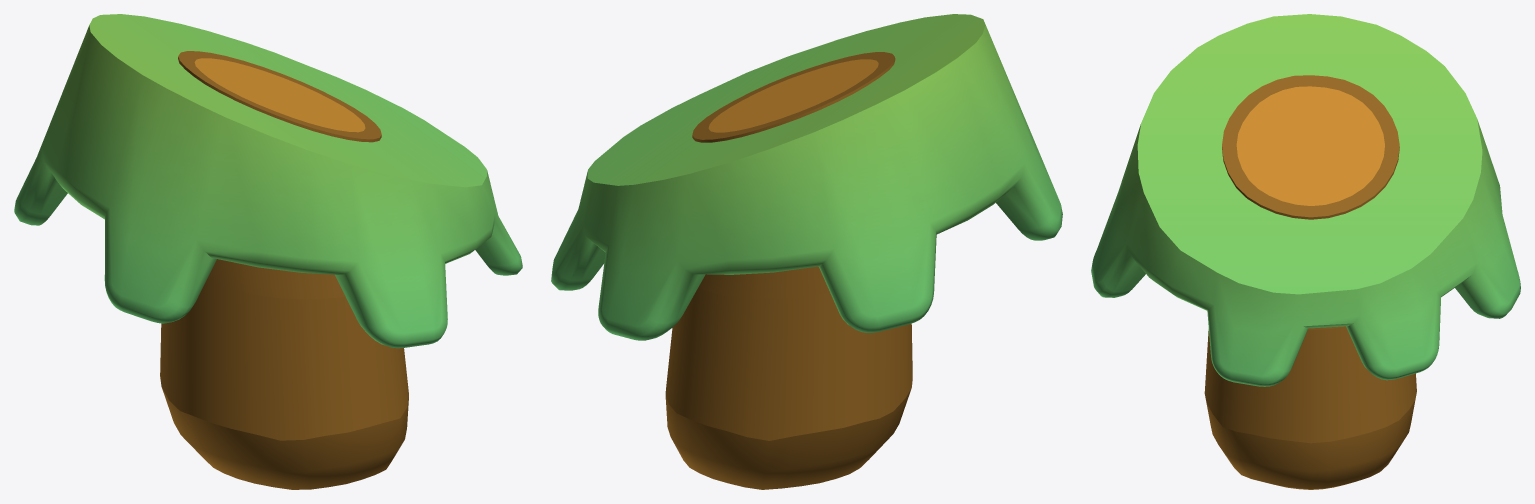
The model's file is tree2 40%.fbx.
3 renders of one model, left to right at view 1: azimuth 30°, elevation 25°; view 2: azimuth 150°, elevation 25°; view 3: azimuth 270°, elevation 25°, orthographic. The views are drawn at different scales.
Parts seen in each view (by area): view 1: Cylinder.022; view 2: Cylinder.022; view 3: Cylinder.022.
Boxes of the visible parts, box(x1,y1,x2,y2) form: Cylinder.022: box(14, 14, 522, 489); Cylinder.022: box(551, 14, 1062, 489); Cylinder.022: box(1091, 14, 1520, 489).
Bounding box in the file's own units: 79.53 × 80.61 × 83.63.
